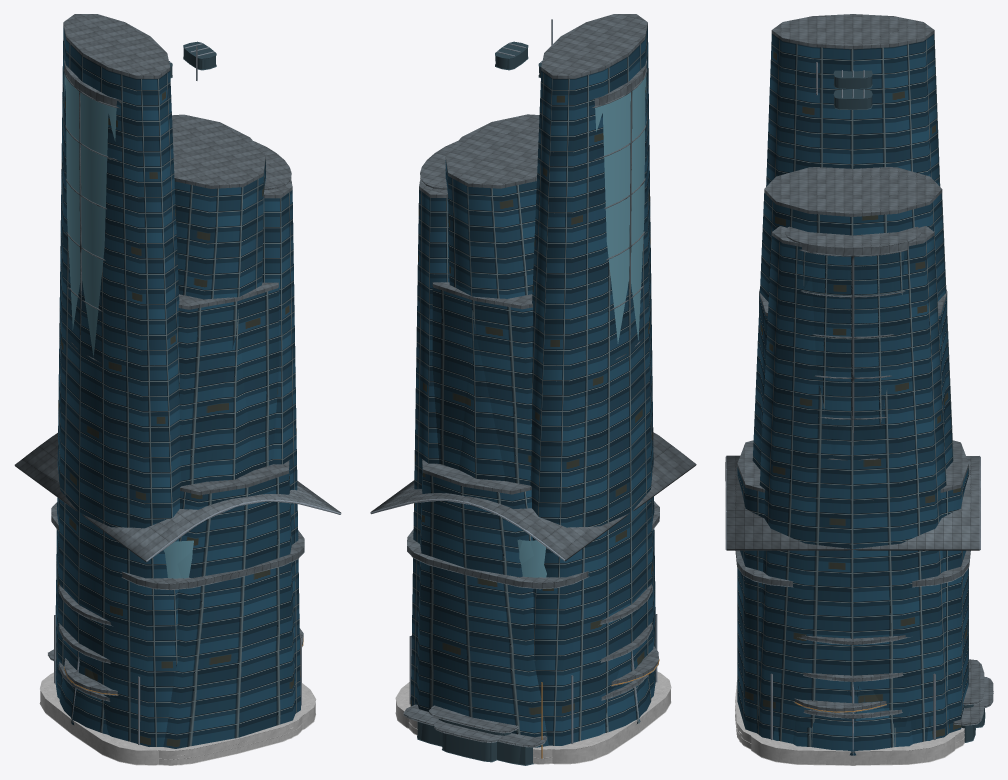
Rendered from city-modules.glb.
3 renders of one model, left to right at view 1: azimuth 30°, elevation 25°; view 2: azimuth 150°, elevation 25°; view 3: azimuth 270°, elevation 25°, orthographic. The views are drawn at different scales.
Parts seen in each view (by area): view 1: split_office_far_Blue laminated glazing, transit_station_far_Blue laminated glazing, terrace_residence_far_Blue laminated glazing, spindle_office_far_Blue laminated glazing, split_office_near_Silver blue glazing, split_office_near_Silver blue glazing.001, spindle_office_far_Coated architectural alloy, transit_station_near_Coated architectural alloy, split_office_far_Coated architectural alloy, transit_station_near_Coated architectural alloy.001, split_office_near_Coated architectural alloy, split_office_near_CC0_Concrete034.001 (+10 smaller); view 2: split_office_far_Blue laminated glazing, transit_station_far_Blue laminated glazing, terrace_residence_far_Blue laminated glazing, spindle_office_far_Blue laminated glazing, split_office_near_Silver blue glazing, spindle_office_far_Coated architectural alloy, transit_station_near_Coated architectural alloy, split_office_far_Coated architectural alloy, split_office_near_Silver blue glazing.001, split_office_near_Coated architectural alloy, transit_station_near_Coated architectural alloy.001, split_office_near_CC0_Concrete034.001 (+11 smaller); view 3: split_office_far_Blue laminated glazing, split_office_near_Blue laminated glazing, transit_station_far_Blue laminated glazing, split_office_near_Blue laminated glazing.001, spindle_office_far_Coated architectural alloy, spindle_office_far_Blue laminated glazing, transit_station_near_Coated architectural alloy, split_office_far_Coated architectural alloy, split_office_near_Coated architectural alloy, transit_station_near_Coated architectural alloy.001, split_office_near_CC0_Concrete034.001, research_campus_near_Blue laminated glazing (+13 smaller).
Boxes of the visible parts, left/top/right/bottom form: split_office_far_Blue laminated glazing: left=55, top=26, right=300, bottom=746; transit_station_far_Blue laminated glazing: left=163, top=466, right=295, bottom=748; terrace_residence_far_Blue laminated glazing: left=178, top=287, right=279, bottom=486; spindle_office_far_Blue laminated glazing: left=174, top=160, right=265, bottom=481; split_office_near_Silver blue glazing: left=64, top=75, right=116, bottom=356; split_office_near_Silver blue glazing.001: left=64, top=74, right=116, bottom=348; spindle_office_far_Coated architectural alloy: left=172, top=114, right=265, bottom=188; transit_station_near_Coated architectural alloy: left=15, top=435, right=341, bottom=590; split_office_far_Coated architectural alloy: left=63, top=14, right=292, bottom=198; transit_station_near_Coated architectural alloy.001: left=15, top=433, right=340, bottom=589; split_office_near_Coated architectural alloy: left=48, top=60, right=291, bottom=660; split_office_near_CC0_Concrete034.001: left=40, top=690, right=315, bottom=764; split_office_far_Blue laminated glazing: left=410, top=26, right=655, bottom=745; transit_station_far_Blue laminated glazing: left=417, top=467, right=548, bottom=747; terrace_residence_far_Blue laminated glazing: left=432, top=286, right=532, bottom=485; spindle_office_far_Blue laminated glazing: left=445, top=160, right=536, bottom=480; split_office_near_Silver blue glazing: left=595, top=74, right=646, bottom=343; spindle_office_far_Coated architectural alloy: left=445, top=114, right=539, bottom=188; transit_station_near_Coated architectural alloy: left=370, top=432, right=696, bottom=742; split_office_far_Coated architectural alloy: left=419, top=14, right=647, bottom=197; split_office_near_Silver blue glazing.001: left=595, top=76, right=646, bottom=340; split_office_near_Coated architectural alloy: left=403, top=59, right=647, bottom=747; transit_station_near_Coated architectural alloy.001: left=372, top=433, right=694, bottom=742; split_office_near_CC0_Concrete034.001: left=396, top=689, right=670, bottom=763; split_office_far_Blue laminated glazing: left=757, top=33, right=949, bottom=743; split_office_near_Blue laminated glazing: left=802, top=251, right=904, bottom=460; transit_station_far_Blue laminated glazing: left=737, top=467, right=968, bottom=732; split_office_near_Blue laminated glazing.001: left=804, top=251, right=903, bottom=464; spindle_office_far_Coated architectural alloy: left=764, top=167, right=942, bottom=216; spindle_office_far_Blue laminated glazing: left=752, top=192, right=953, bottom=469; transit_station_near_Coated architectural alloy: left=726, top=456, right=993, bottom=707; split_office_far_Coated architectural alloy: left=771, top=14, right=934, bottom=246; split_office_near_Coated architectural alloy: left=785, top=226, right=983, bottom=725; transit_station_near_Coated architectural alloy.001: left=726, top=455, right=993, bottom=706; split_office_near_CC0_Concrete034.001: left=751, top=737, right=954, bottom=765; research_campus_near_Blue laminated glazing: left=811, top=691, right=895, bottom=750.
Size of the model in its own units: 27.61 by 80.21 by 29.65.
Materials: 8 (4 with a texture image).
